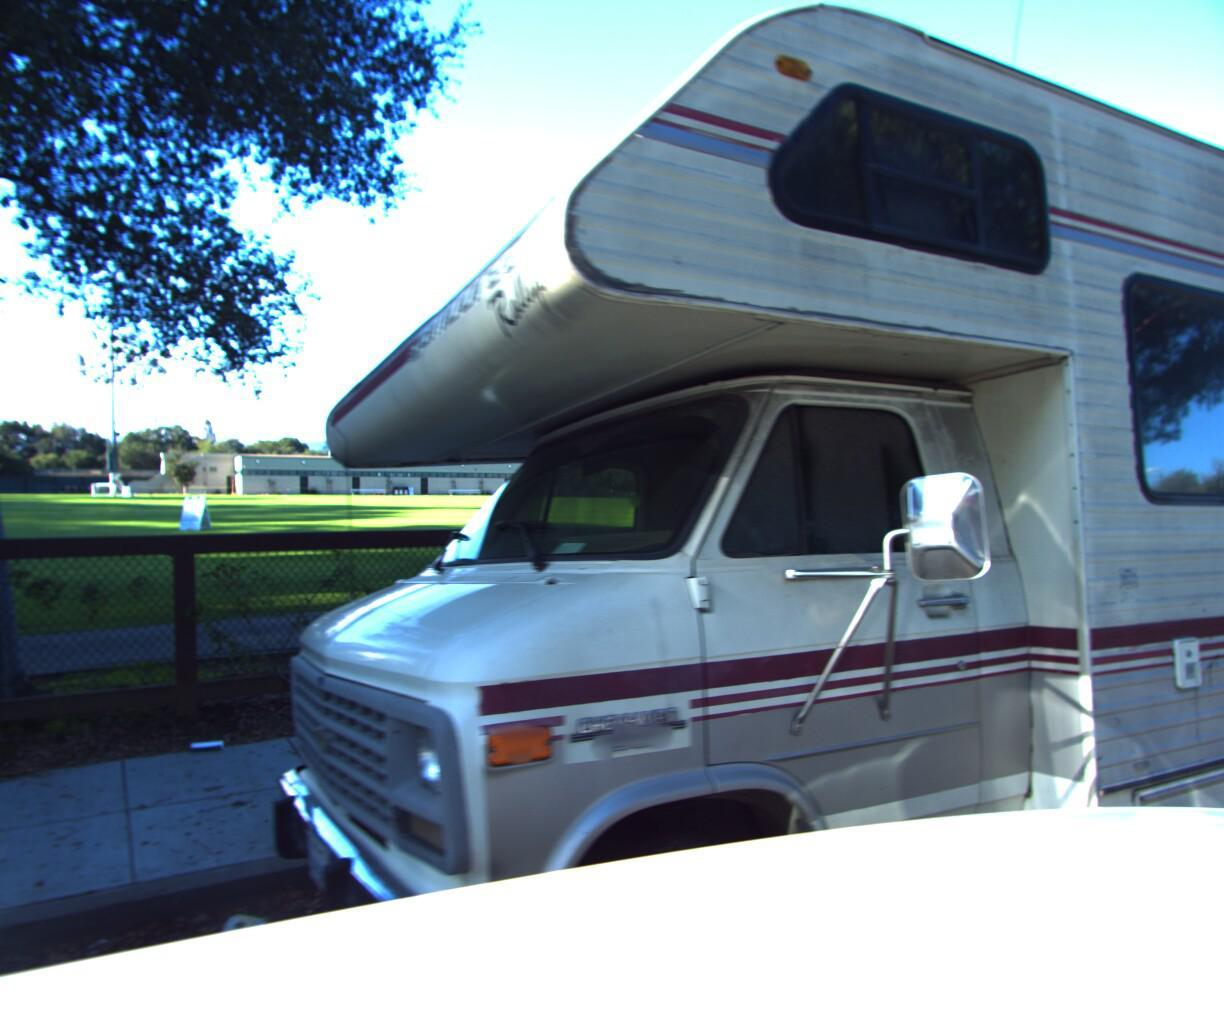other_vehicle: (212, 0, 1224, 1024)
